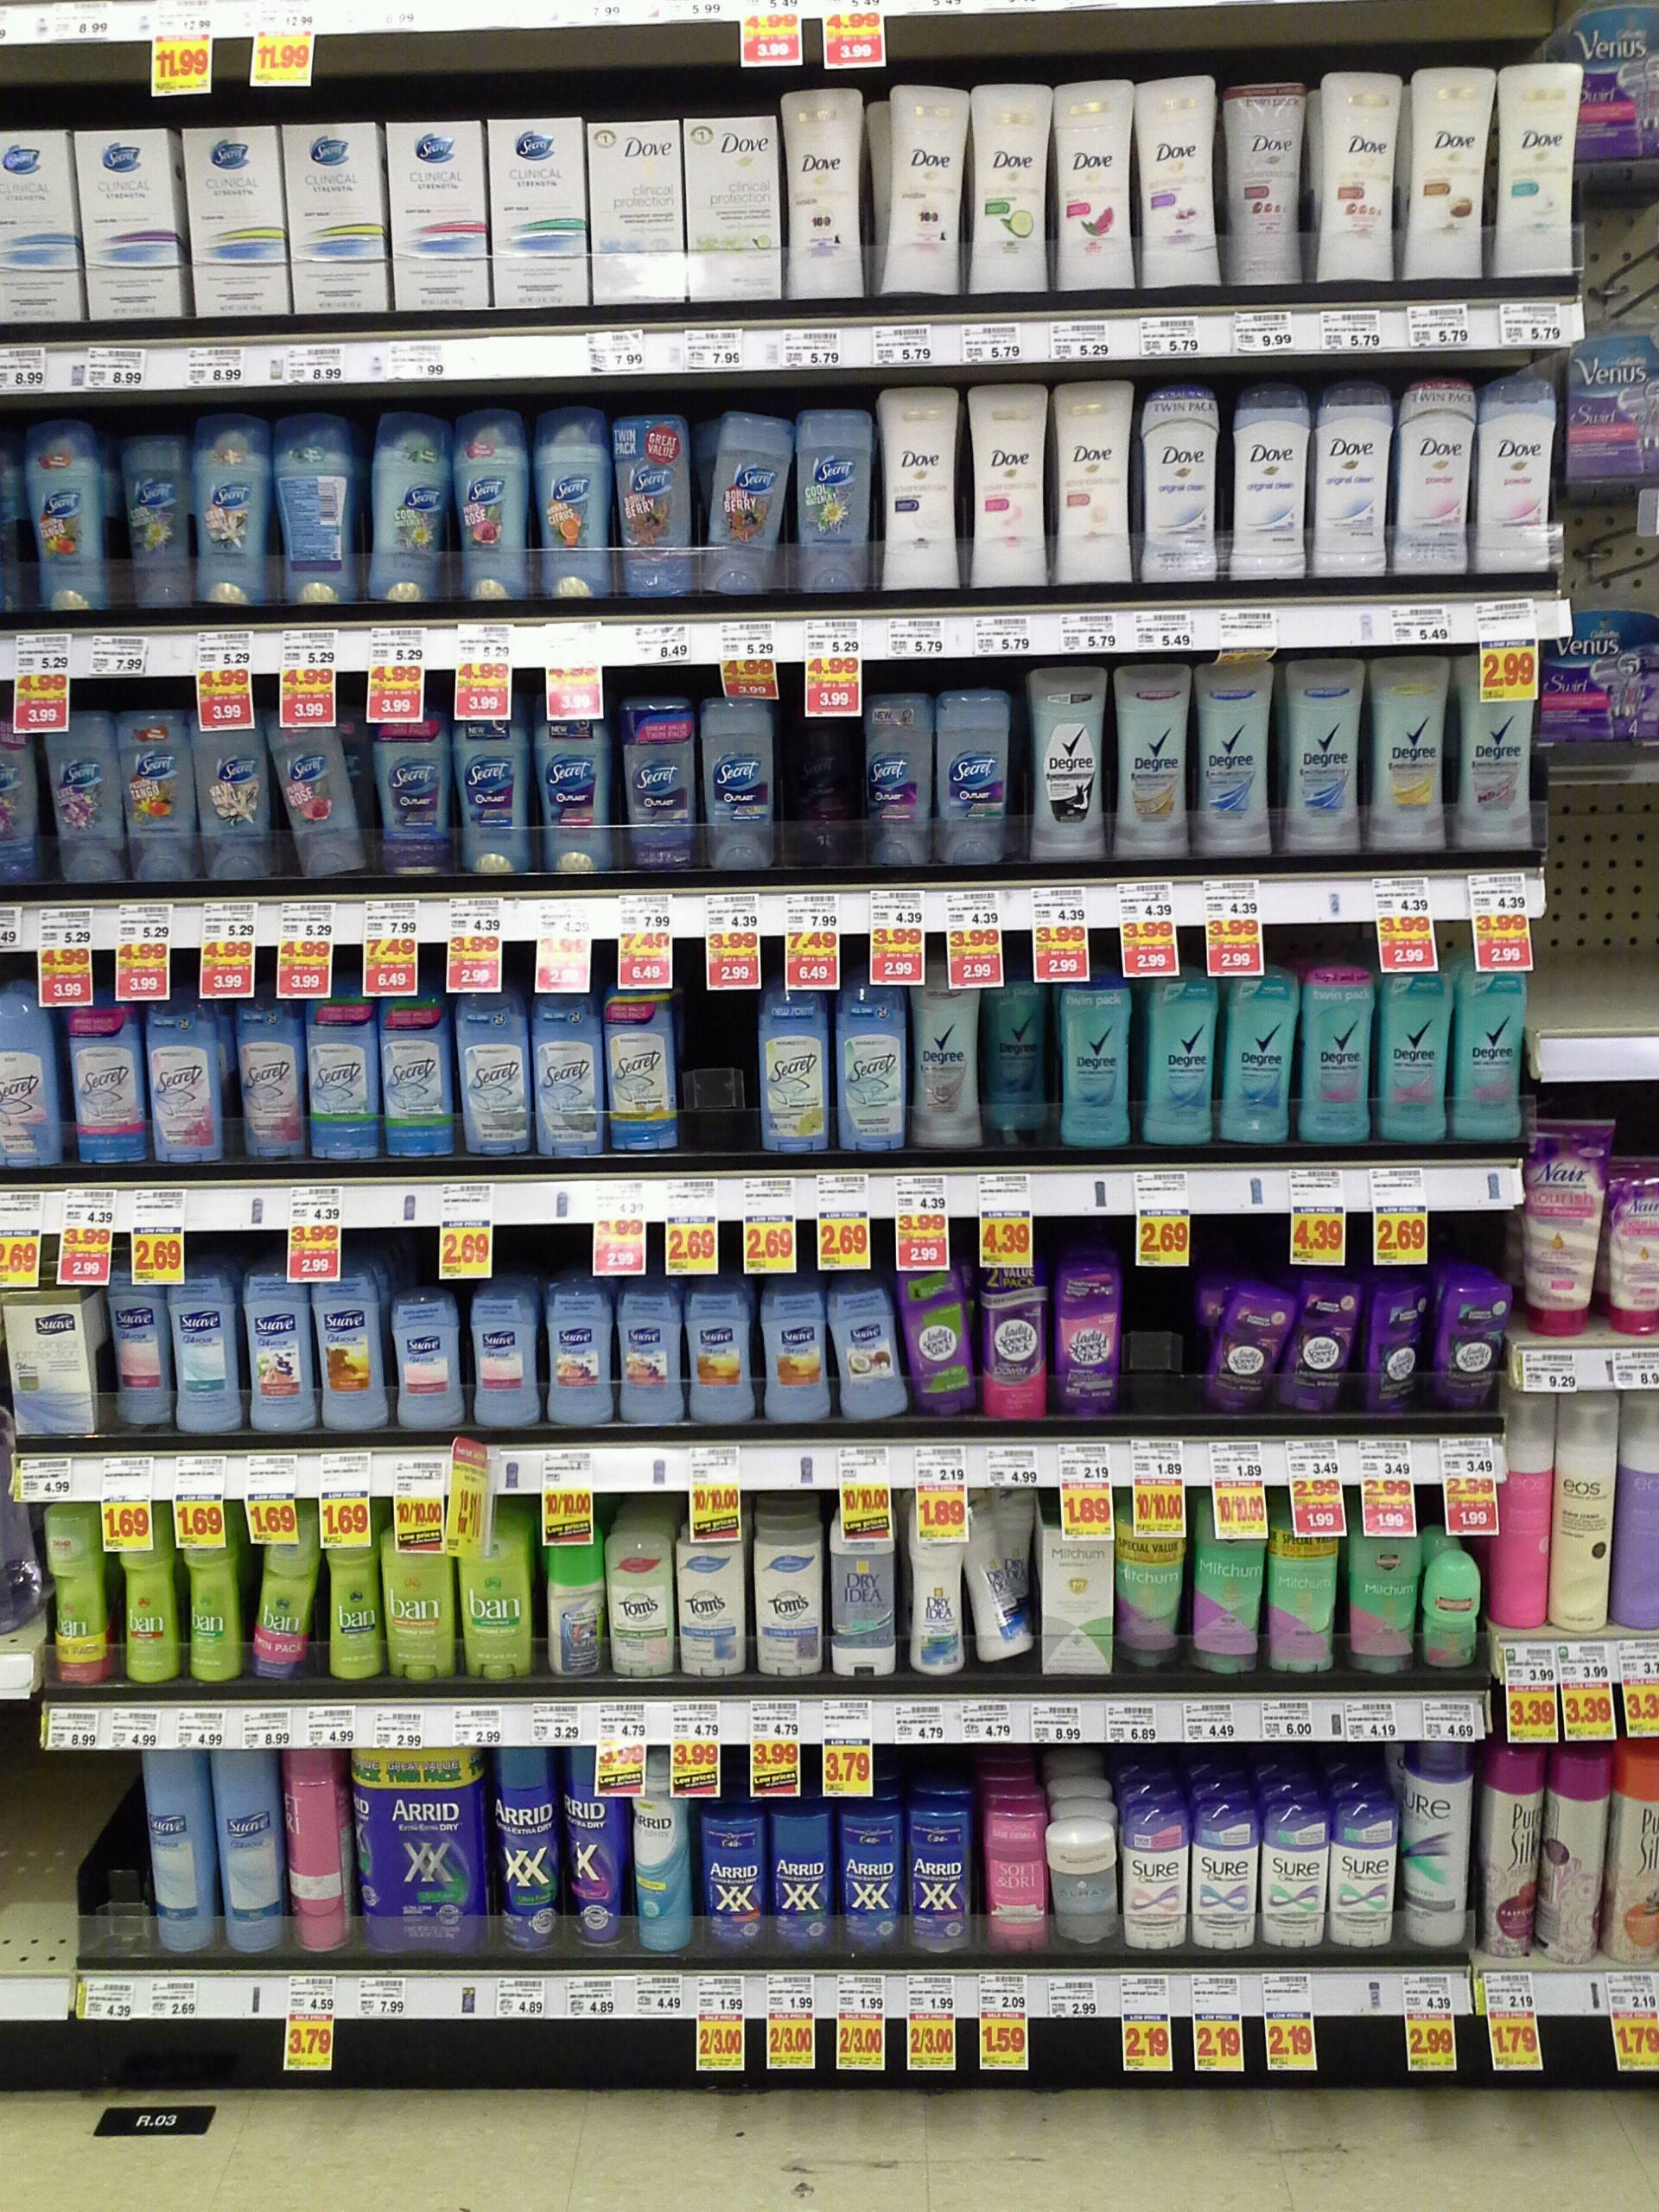Misplacement: (964, 1491, 1040, 1684)
